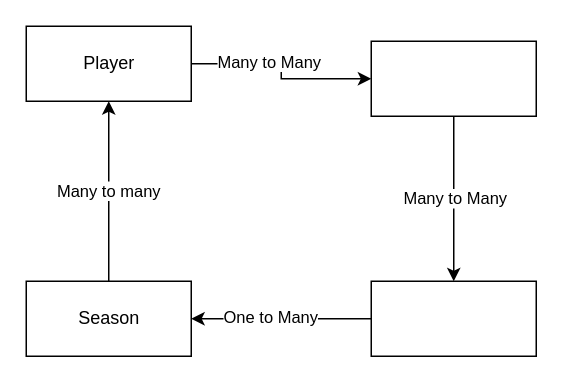
This 563x383 diagram has some shape labels left out. The shapes that lost their labels are listed below. From the top down, each one's box as (x1, y1, x2, y2) in pixels, then its label:
(370, 40, 536, 116): Team
(370, 280, 536, 356): Match
